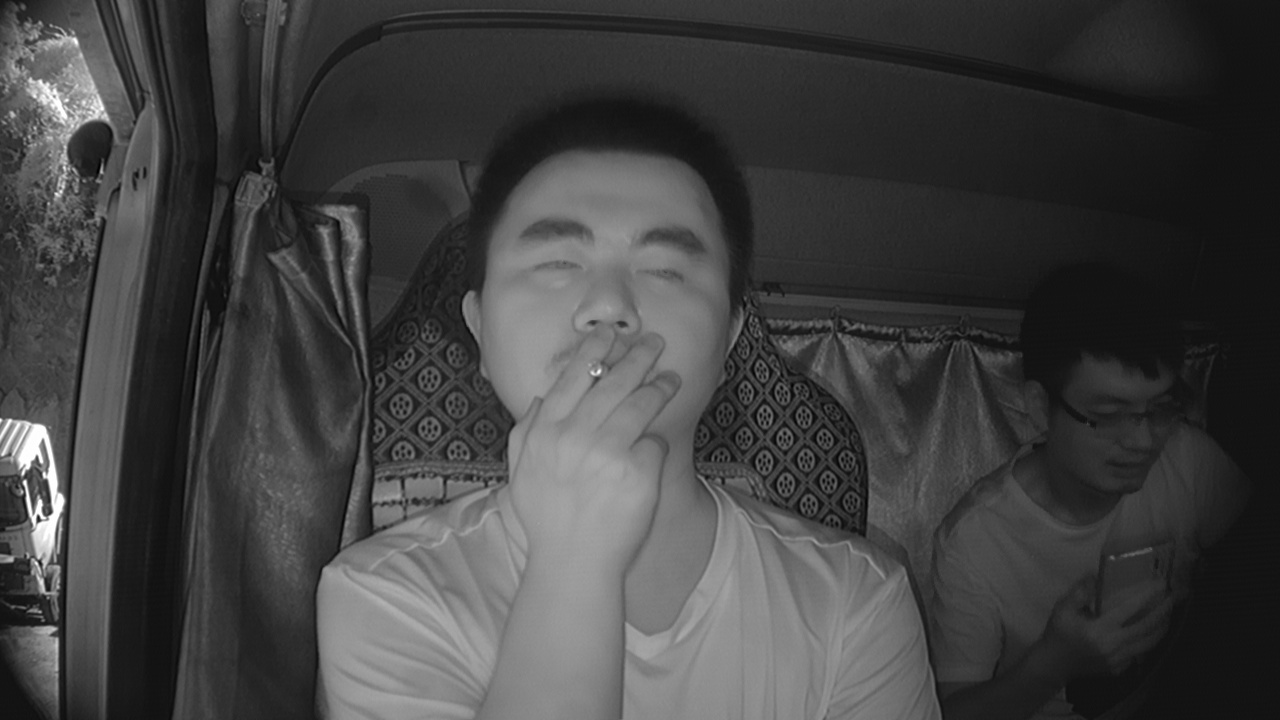hand: (500, 322, 698, 554)
